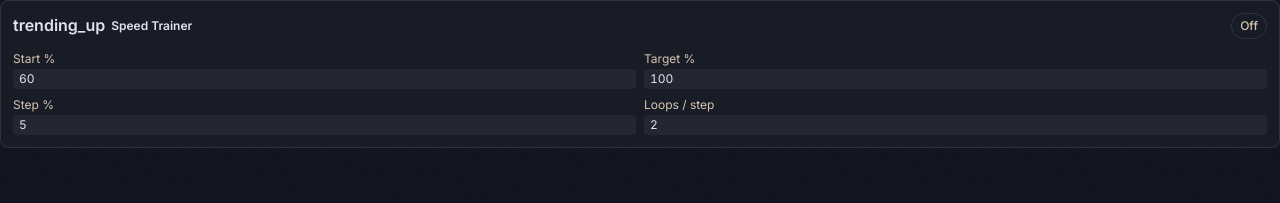
Test: SpeedTrainer › enables the toggle with a valid loop; clicking flips enabled and shows the pass readout
Click the button "Off" at (1249, 26), box left=1231, top=13, right=1267, bottom=39
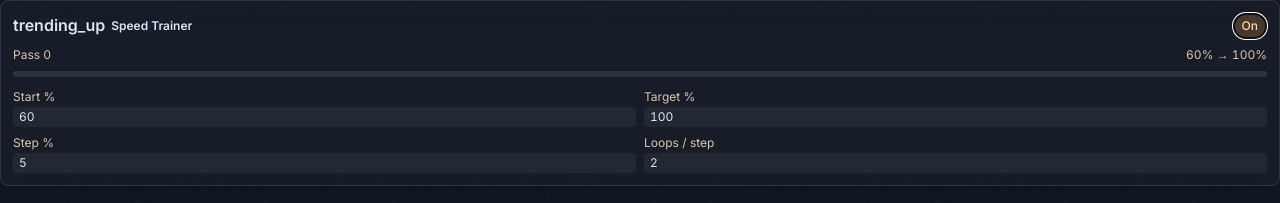
Now the text "60% → 100%" is shown, box left=1186, top=47, right=1267, bottom=63
Now the text "Pass 0" is shown, box left=13, top=47, right=51, bottom=63
